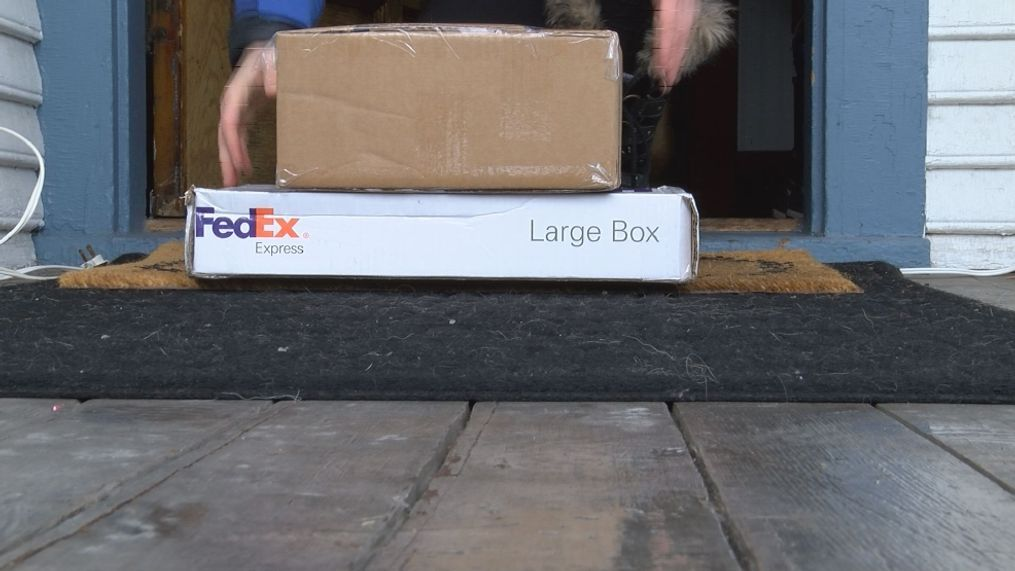DeliveryBox: (158, 12, 734, 281)
